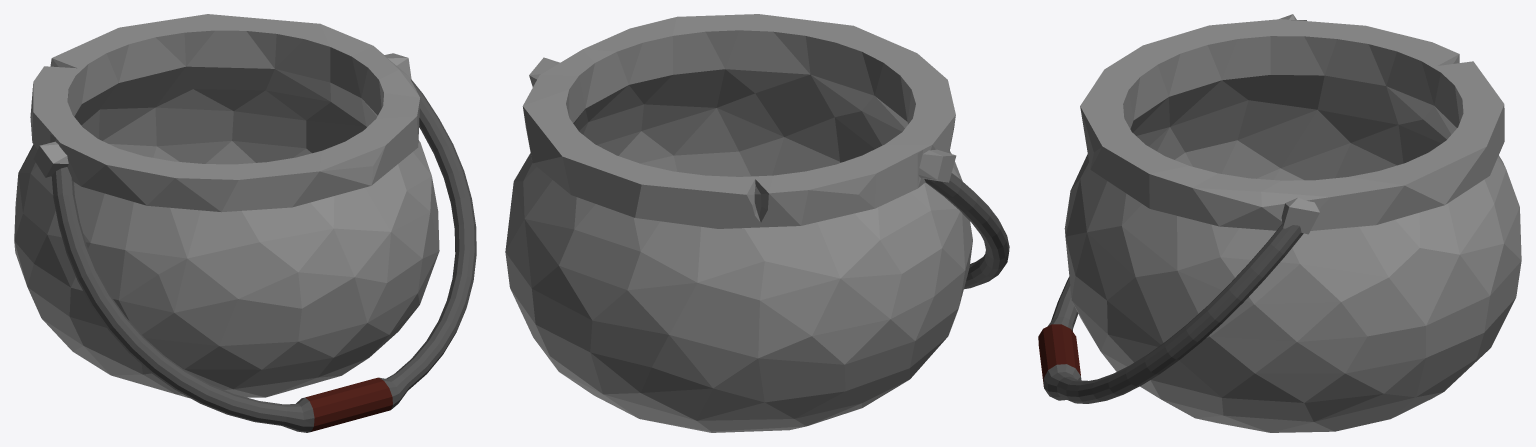
File: Cauldron_Small.fbx
3 views of the same model, side by side, from view 1: azimuth 30°, elevation 25°; view 2: azimuth 150°, elevation 25°; view 3: azimuth 270°, elevation 25° (orthographic). The views are drawn at different scales.
Visible parts, largest first — view 1: Cauldron Small; view 2: Cauldron Small; view 3: Cauldron Small.
Boxes of the visible parts, x1,y1,x2,y2 form: Cauldron Small: (14, 14, 476, 432); Cauldron Small: (505, 14, 1009, 432); Cauldron Small: (1038, 14, 1521, 432).
Size of the model in its own units: 61.37 by 39.13 by 60.47.
